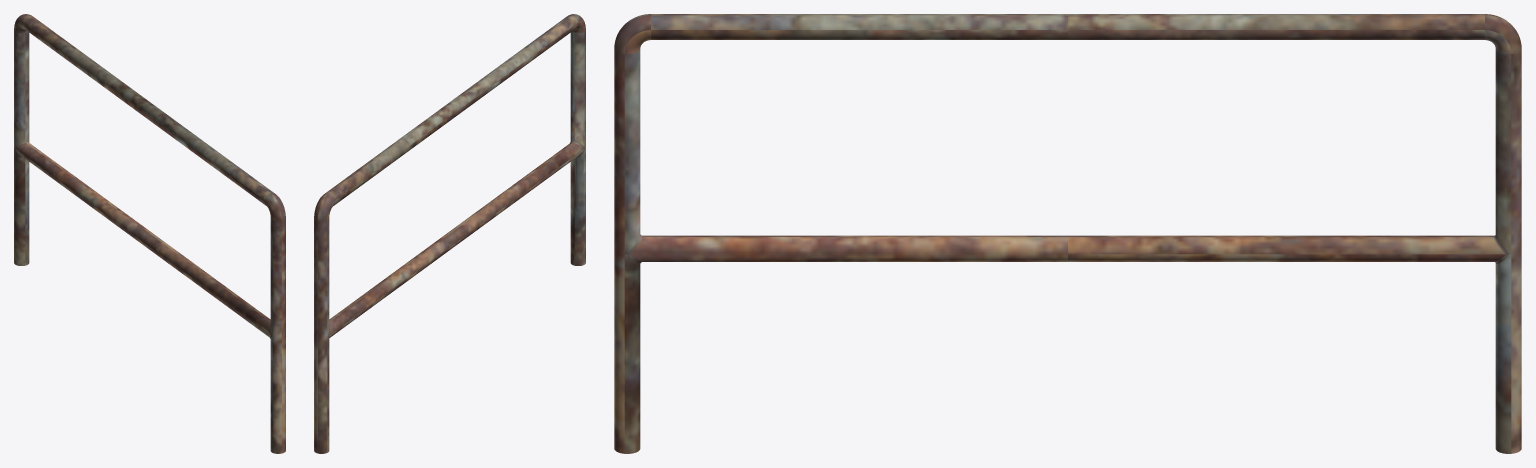
File: barrier.fbx
The picture shows the model from 3 angles, left to right: view 1: azimuth 30°, elevation 25°; view 2: azimuth 150°, elevation 25°; view 3: azimuth 270°, elevation 25°; orthographic projection. The views are drawn at different scales.
Parts seen in each view (by area): view 1: Cylinder; view 2: Cylinder; view 3: Cylinder.
Boxes of the visible parts, box(x1,y1,x2,y2) form: Cylinder: box(14, 14, 285, 453); Cylinder: box(314, 14, 585, 453); Cylinder: box(614, 14, 1521, 453).
Size of the model in its own units: 7.64 by 134 by 255.
